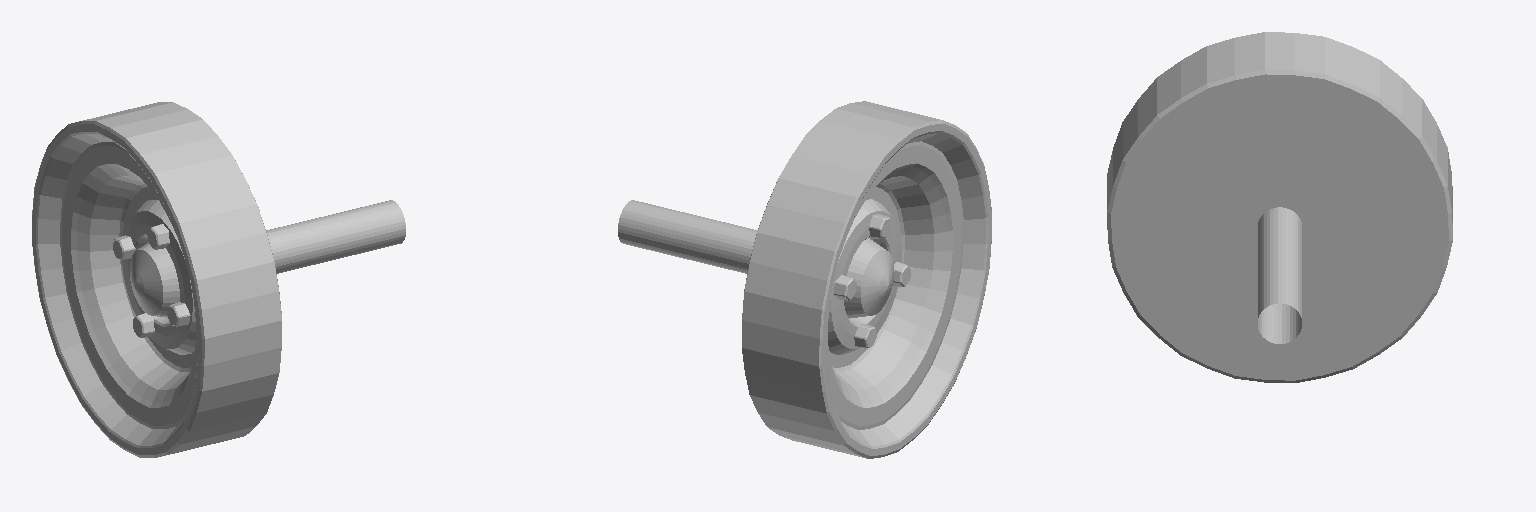
Rendered from TankBackWheelRight.obj.
3 renders of one model, left to right at view 1: azimuth 30°, elevation 25°; view 2: azimuth 150°, elevation 25°; view 3: azimuth 270°, elevation 25°, orthographic.
Parts seen in each view (by area): view 1: TankBackWheelRight_Untitled.014; view 2: TankBackWheelRight_Untitled.014; view 3: TankBackWheelRight_Untitled.014.
Part boxes in pixels (x1,y1,x2,y2): TankBackWheelRight_Untitled.014: (32,102,405,457); TankBackWheelRight_Untitled.014: (618,101,991,458); TankBackWheelRight_Untitled.014: (1107,32,1452,382).
Size of the model in its own units: 0.752 by 0.8109 by 0.8109.